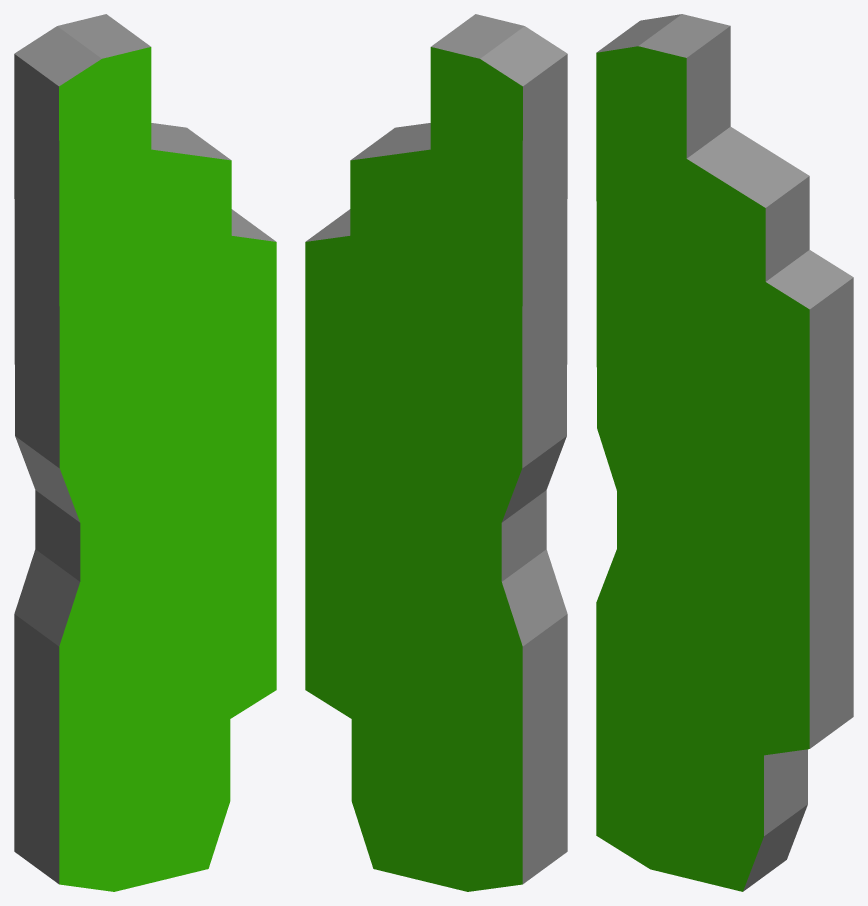
Rendered from SMB_groundL_B.fbx.
The picture shows the model from 3 angles, left to right: view 1: azimuth 30°, elevation 25°; view 2: azimuth 150°, elevation 25°; view 3: azimuth 330°, elevation 25°; orthographic projection.
Parts seen in each view (by area): view 1: SMB_groundL_B; view 2: SMB_groundL_B; view 3: SMB_groundL_B.
Boxes of the visible parts, left/top/right/bottom form: SMB_groundL_B: left=14, top=14, right=276, bottom=891; SMB_groundL_B: left=305, top=14, right=567, bottom=891; SMB_groundL_B: left=596, top=14, right=853, bottom=891.
Bounding box in the file's own units: 9066 × 33266 × 3234.
